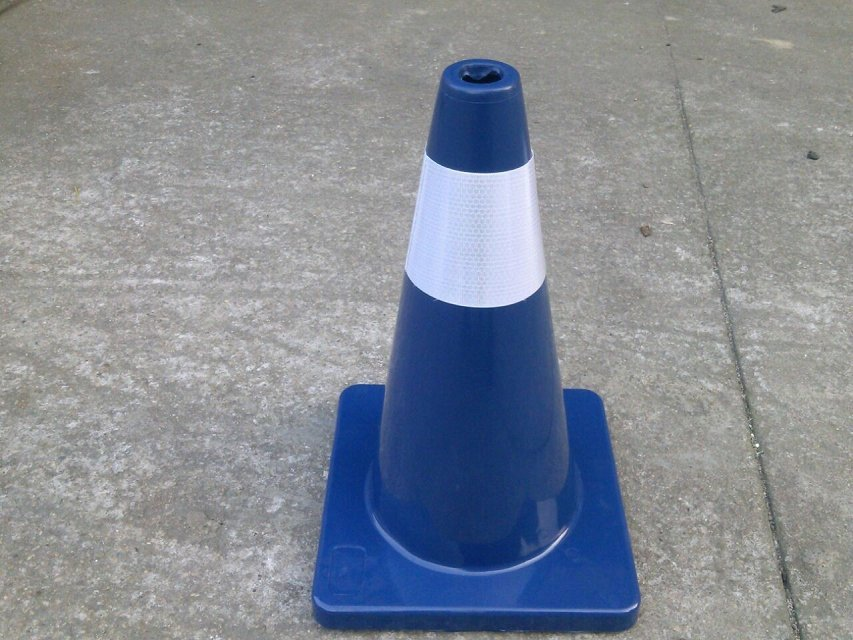cone: (306, 55, 648, 634)
